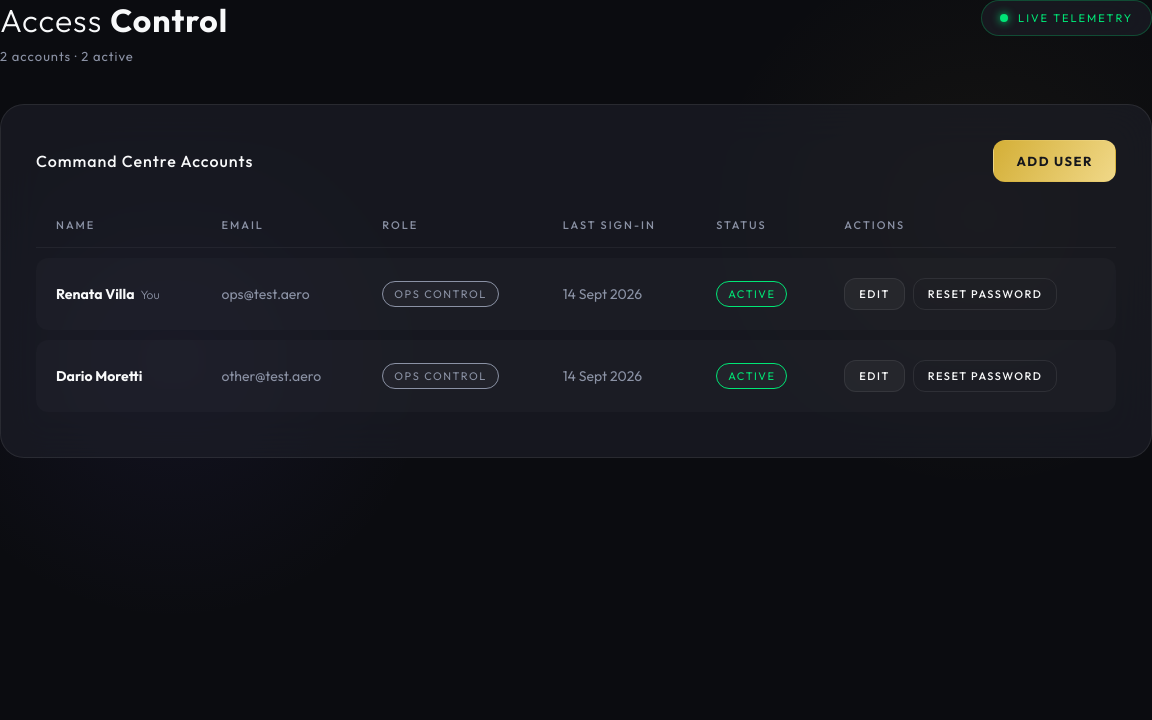
Users page › surfaces the server protecting the last administrator
Click the button "Edit" in the row of "Dario Moretti" at (875, 376), box x1=844 y1=360 x2=905 y2=392
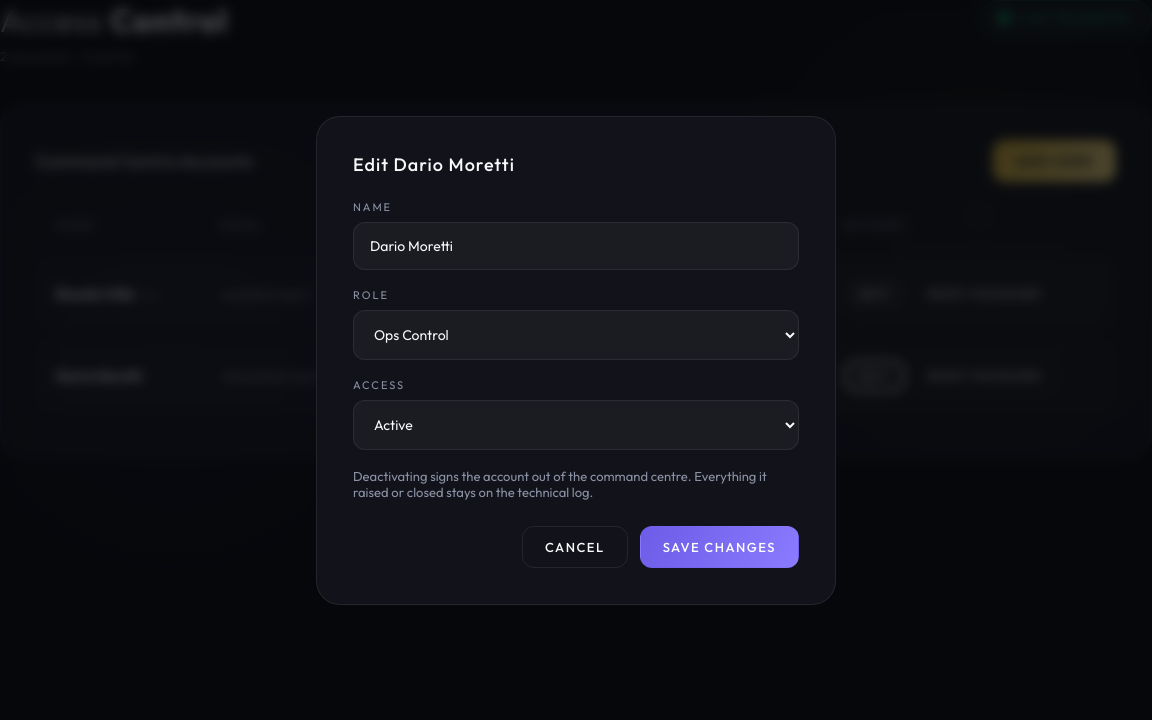
Select "Analyst" in the dropdown labelled "Role" at (576, 334), box x1=353 y1=310 x2=799 y2=360
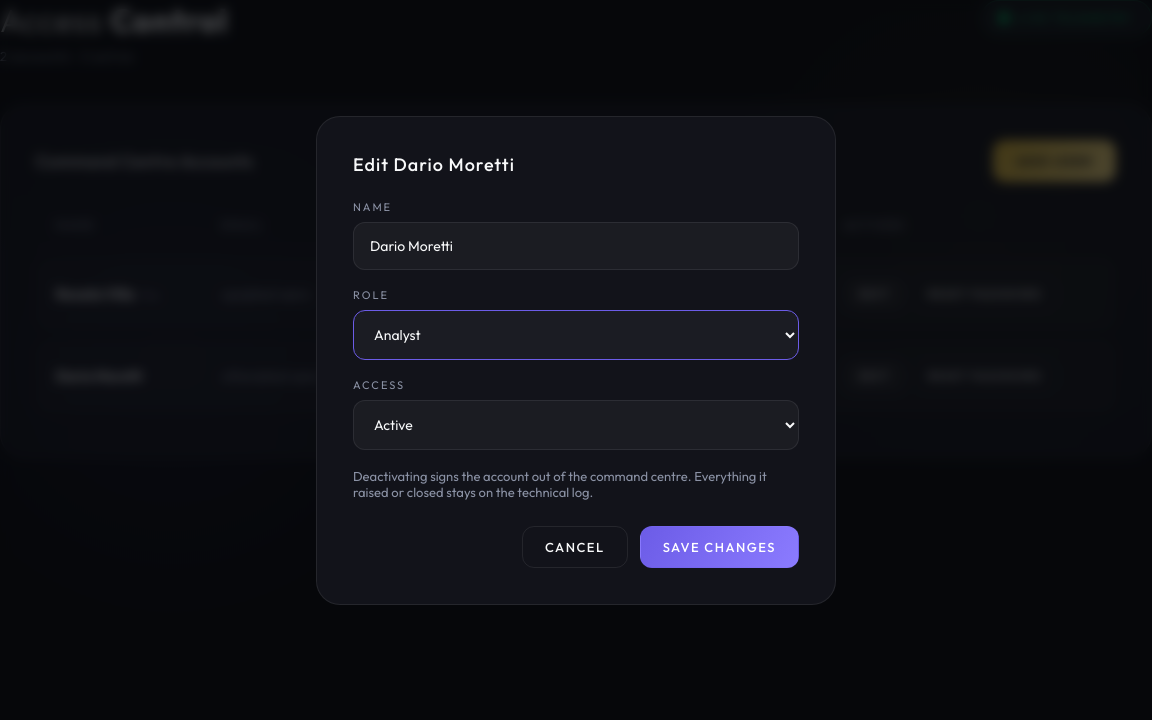
Click the button "Save changes" at (719, 546), box x1=640 y1=526 x2=799 y2=568
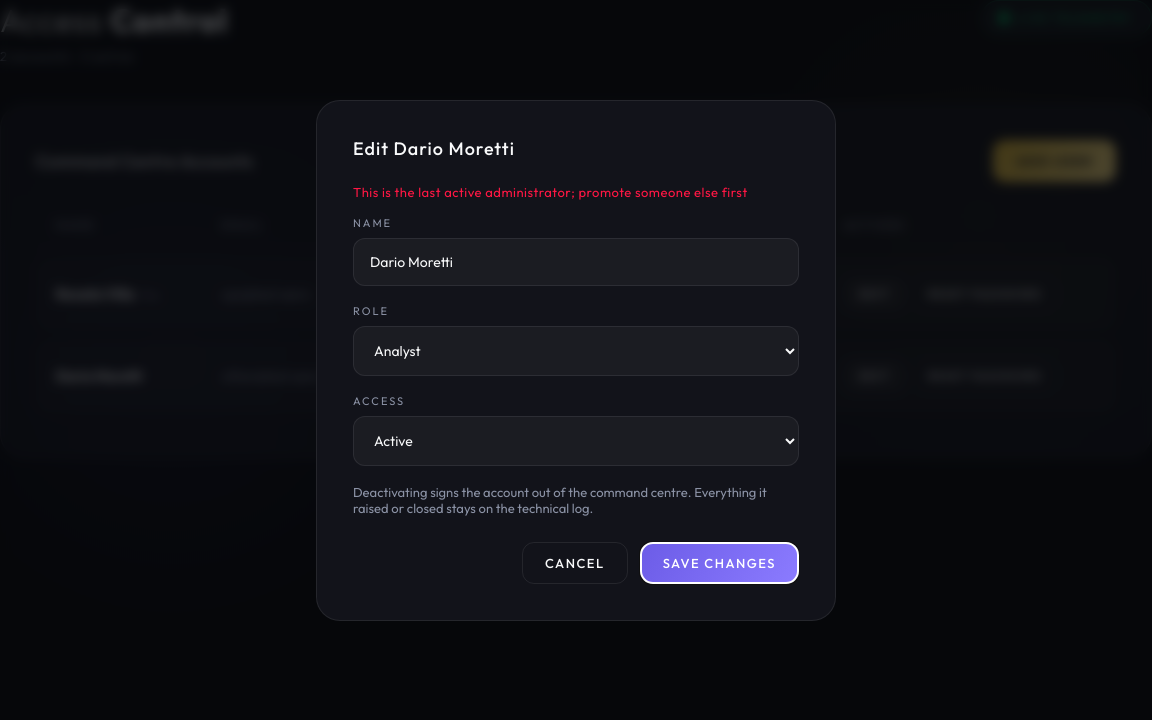
Expected: the text "last active administrator" is shown, x1=353 y1=184 x2=748 y2=200
